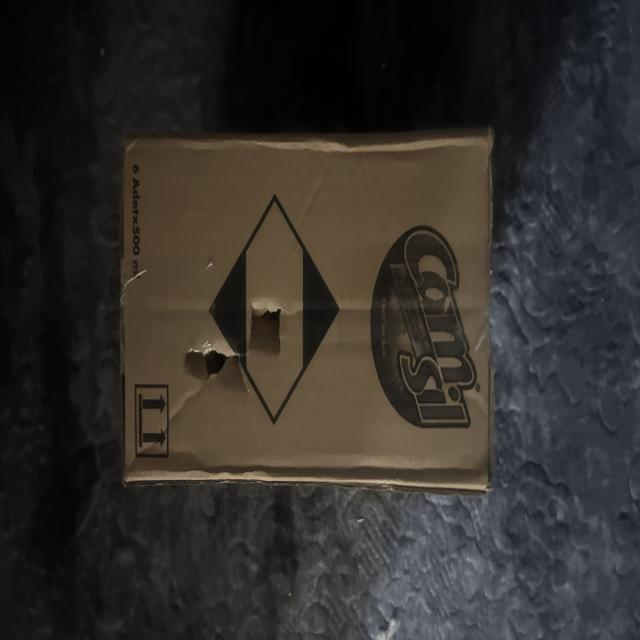damaged: (118, 125, 497, 500), (175, 334, 248, 393), (244, 280, 288, 377)
